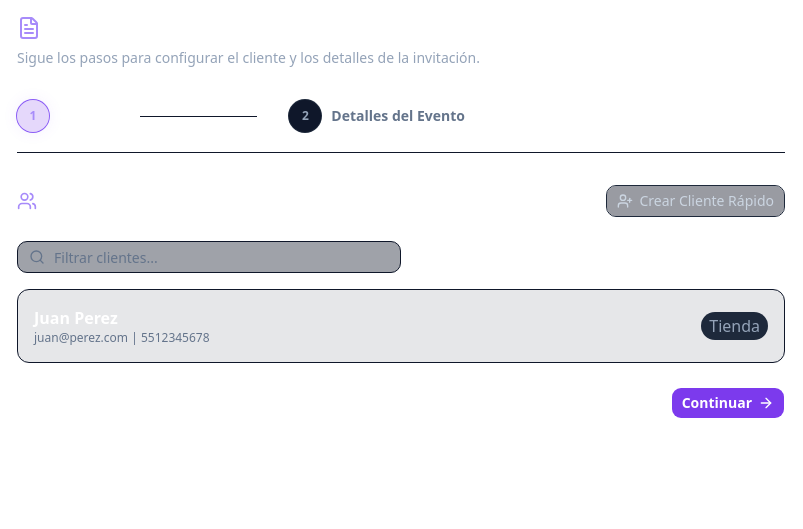
Test case: NuevoPedidoClient Phone Validation › debe validar estrictamente el teléfono a 10 dígitos en el formulario rápido de cliente
# Click on "Crear Cliente Rápido"
Click the button "Crear Cliente Rápido": (696, 201) [606,185,785,217]
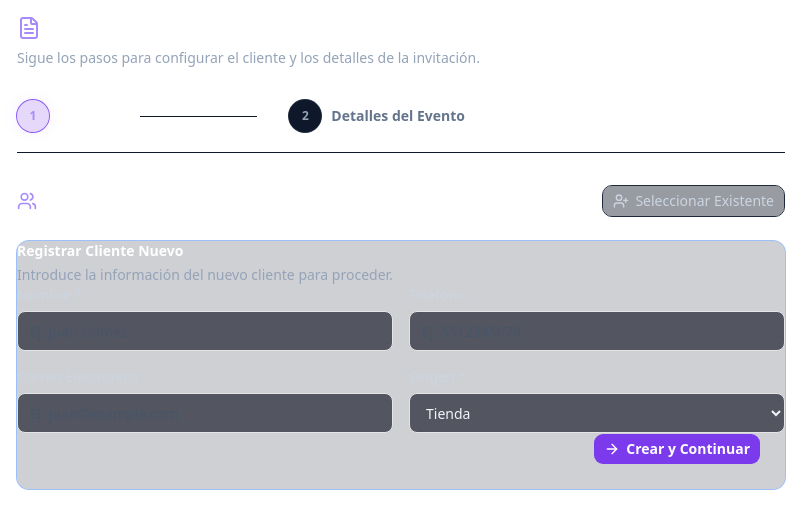
# Enter name
In the field with placeholder "Ej. Juan Gómez": (205, 331) [17,311,393,351], type "Test Client"
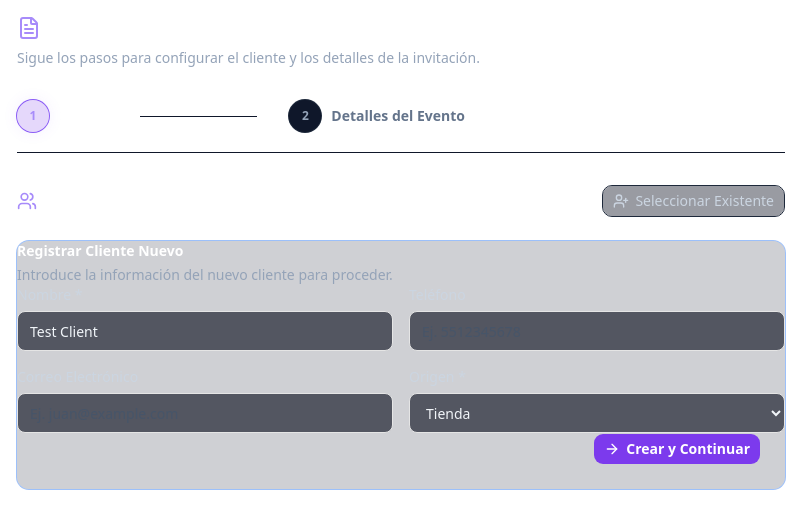
In the field with placeholder "Ej. 5512345678": (597, 331) [409,311,785,351], type "12345"
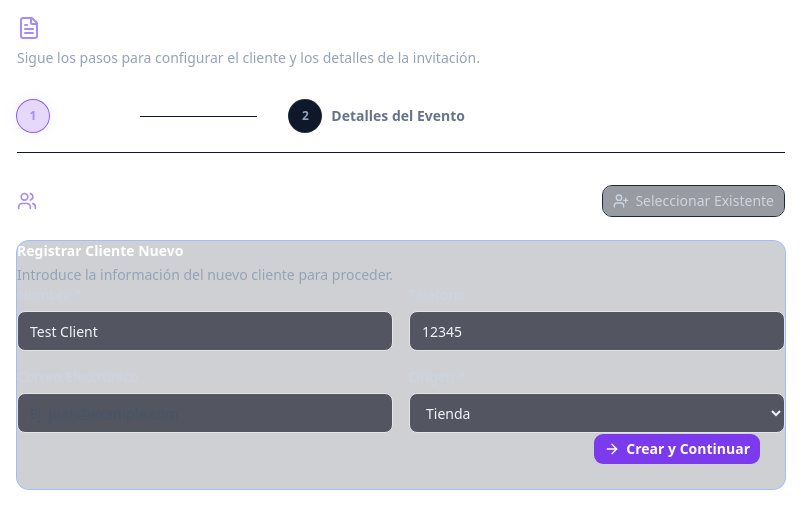
Click the button "Crear y Continuar": (677, 449) [593,433,761,465]
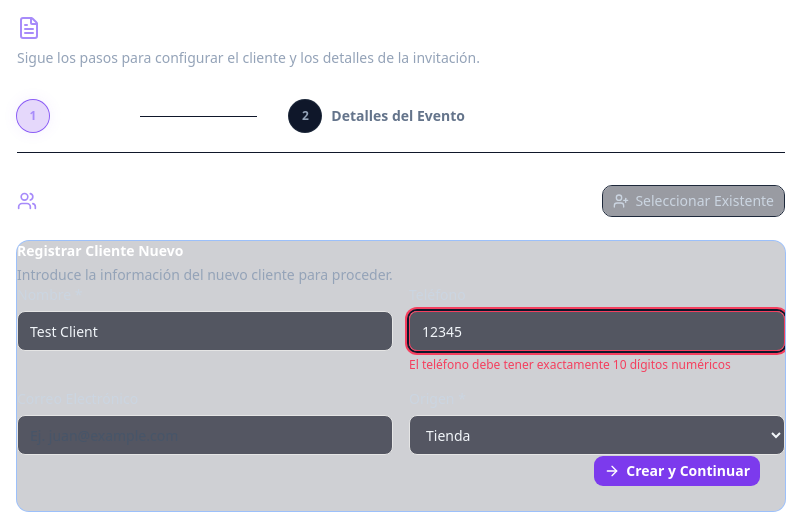
Expected: the text "El teléfono debe tener exactamente 10 dígitos numéricos" is shown, [409,357,785,373]
